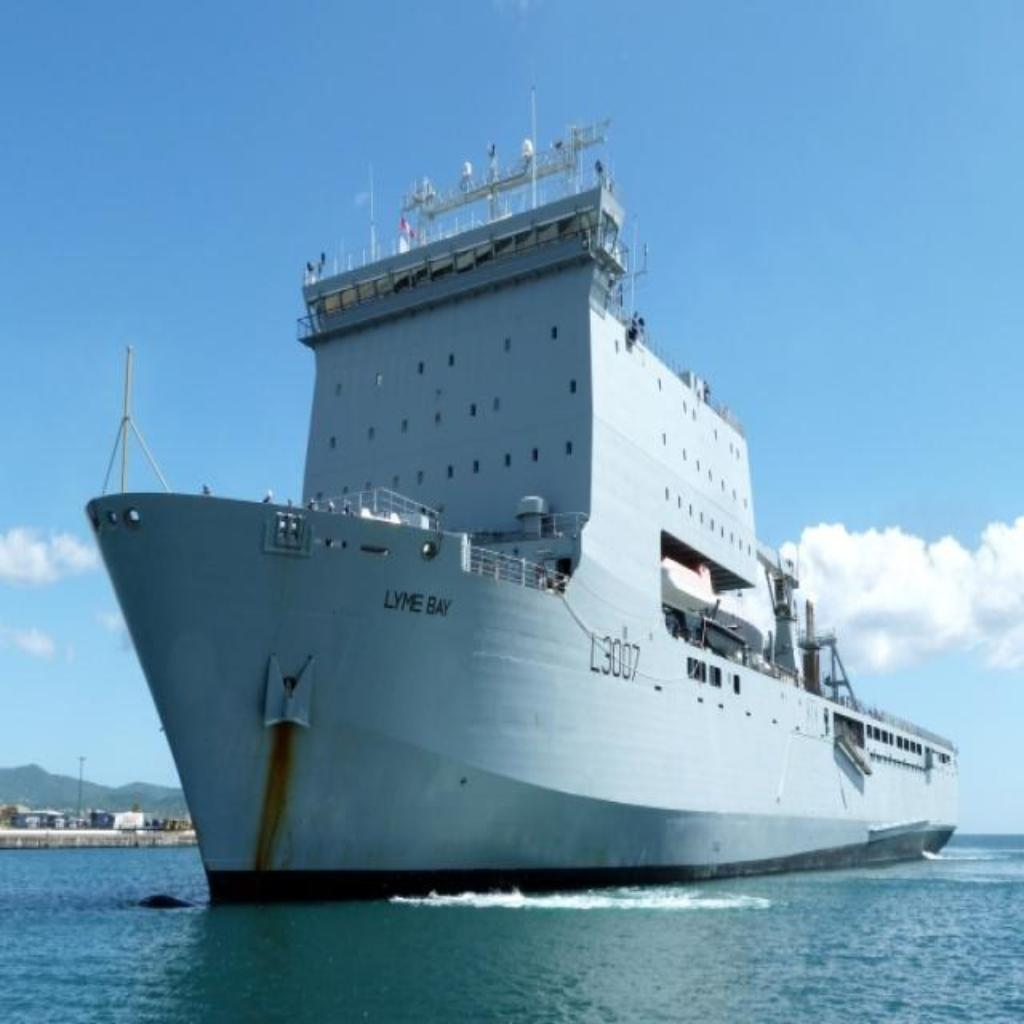Warship: (67, 70, 969, 898)
